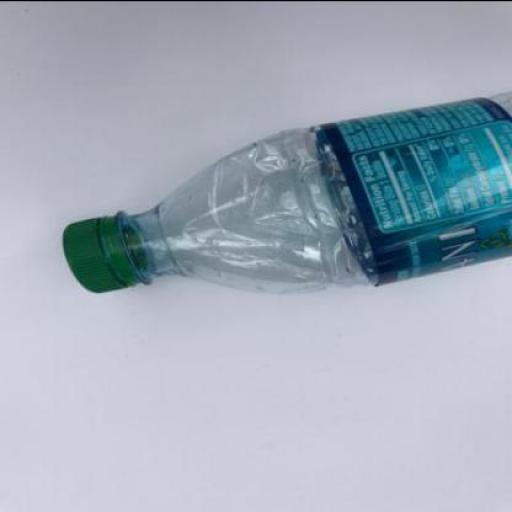plastic: (62, 90, 510, 293), (311, 97, 511, 285), (60, 212, 146, 293)
